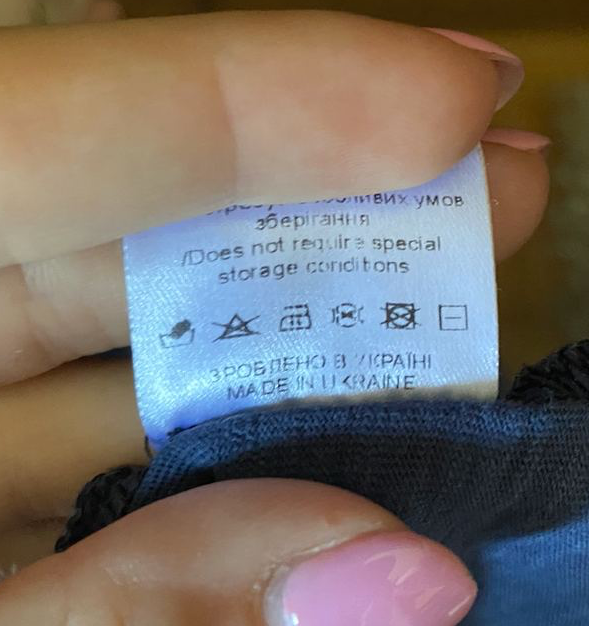do_not_bleach: (209, 305, 265, 345)
do_not_dry_clean: (326, 298, 367, 331)
do_not_tumble_drying: (378, 300, 423, 333)
dry_flat: (437, 300, 472, 333)
hand_wash: (156, 315, 199, 350)
ironing_at_med_temp: (276, 297, 315, 334)
